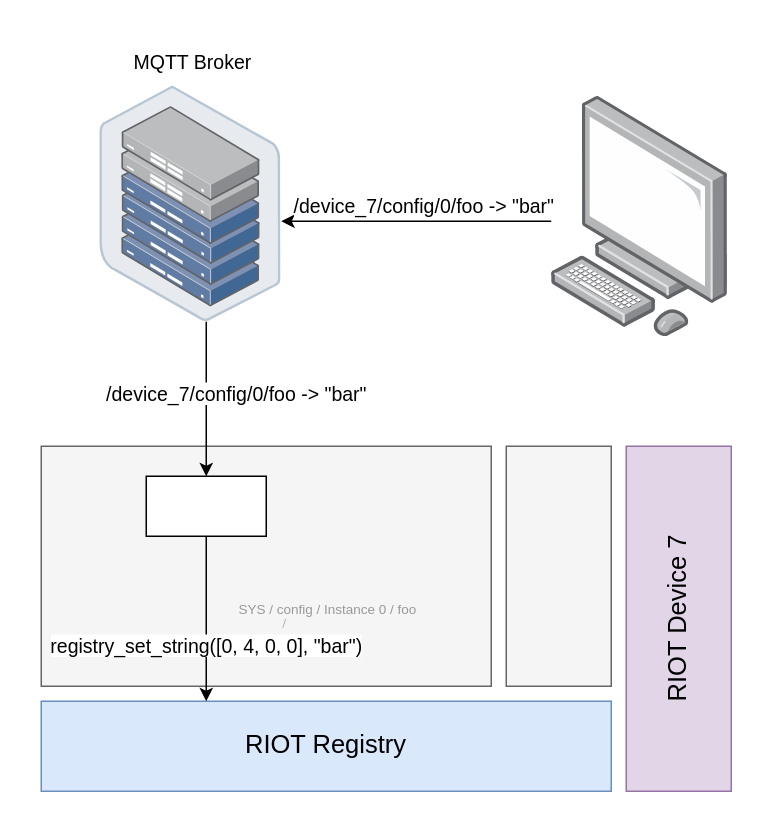
Some shapes in this 771 by 831 pixel diagram are drawn without their labels. The centre of each missing label's shape, as x and y in pixels:
MQTT Client: the point at 558,565
receive: the point at 205,505
